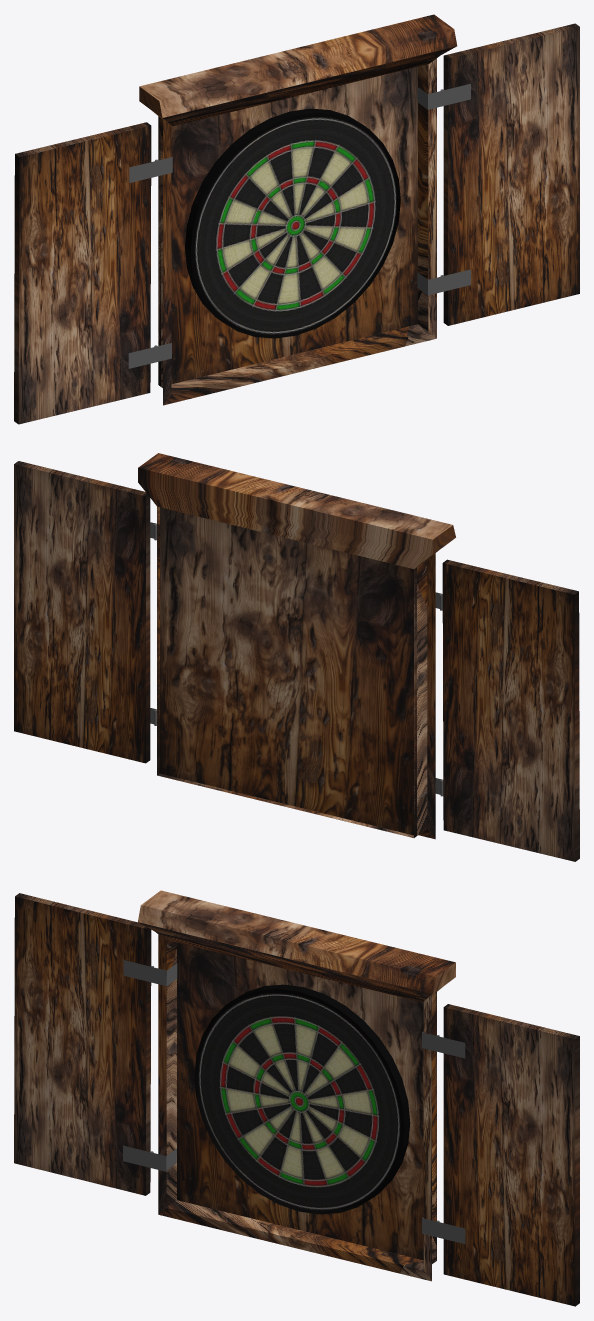
The model's file is dartBoard.fbx.
3 views of the same model, one above another, from view 1: azimuth 30°, elevation 25°; view 2: azimuth 150°, elevation 25°; view 3: azimuth 330°, elevation 25° (orthographic).
Parts seen in each view (by area): view 1: Plane; view 2: Plane; view 3: Plane.
Boxes of the visible parts, x1,y1,x2,y2 form: Plane: [14, 14, 579, 424]; Plane: [14, 453, 579, 861]; Plane: [14, 890, 579, 1306].
Size of the model in its own units: 534 by 284 by 38.18.
4 materials, 2 textured.
